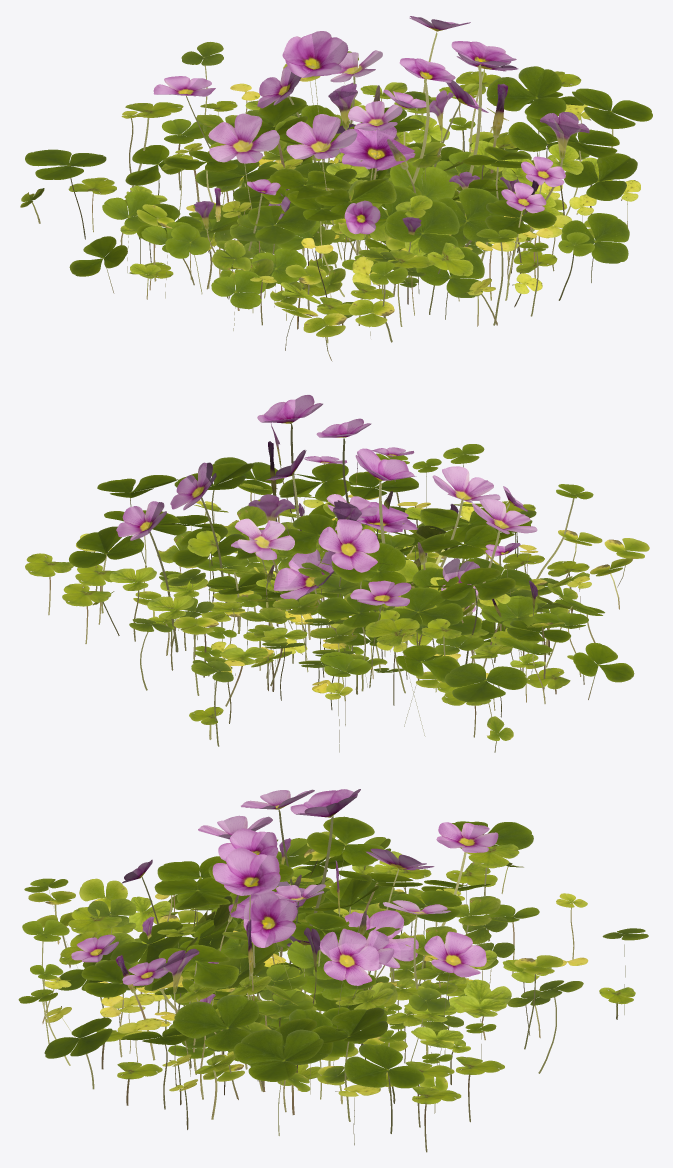
File: uchkajuia_tier_2_nonUE.gltf
The picture shows the model from 3 angles, top to bottom: view 1: azimuth 30°, elevation 25°; view 2: azimuth 150°, elevation 25°; view 3: azimuth 270°, elevation 25°; orthographic projection. The views are drawn at different scales.
Visible parts, largest first — view 1: SM_uchkajuia_VarH, SM_uchkajuia_VarG, SM_uchkajuia_VarD, SM_uchkajuia_VarB, SM_uchkajuia_VarF, SM_uchkajuia_VarE, SM_uchkajuia_VarC, SM_uchkajuia_VarA; view 2: SM_uchkajuia_VarH, SM_uchkajuia_VarD, SM_uchkajuia_VarG, SM_uchkajuia_VarB, SM_uchkajuia_VarF, SM_uchkajuia_VarC, SM_uchkajuia_VarE; view 3: SM_uchkajuia_VarH, SM_uchkajuia_VarG, SM_uchkajuia_VarD, SM_uchkajuia_VarB, SM_uchkajuia_VarE, SM_uchkajuia_VarF, SM_uchkajuia_VarC, SM_uchkajuia_VarA.
Part boxes in pixels (bbox=[...]): SM_uchkajuia_VarH: bbox=[125, 41, 652, 335]; SM_uchkajuia_VarG: bbox=[68, 16, 566, 350]; SM_uchkajuia_VarD: bbox=[20, 91, 637, 342]; SM_uchkajuia_VarB: bbox=[141, 63, 619, 361]; SM_uchkajuia_VarF: bbox=[69, 80, 544, 299]; SM_uchkajuia_VarE: bbox=[230, 105, 527, 297]; SM_uchkajuia_VarC: bbox=[124, 137, 560, 343]; SM_uchkajuia_VarA: bbox=[238, 161, 482, 298]; SM_uchkajuia_VarH: bbox=[25, 395, 602, 726]; SM_uchkajuia_VarD: bbox=[76, 457, 593, 752]; SM_uchkajuia_VarG: bbox=[62, 418, 632, 746]; SM_uchkajuia_VarB: bbox=[75, 458, 649, 723]; SM_uchkajuia_VarF: bbox=[159, 450, 634, 702]; SM_uchkajuia_VarC: bbox=[172, 515, 604, 710]; SM_uchkajuia_VarE: bbox=[208, 502, 536, 660]; SM_uchkajuia_VarH: bbox=[18, 815, 583, 1152]; SM_uchkajuia_VarG: bbox=[22, 789, 648, 1122]; SM_uchkajuia_VarD: bbox=[24, 816, 635, 1145]; SM_uchkajuia_VarB: bbox=[28, 838, 588, 1127]; SM_uchkajuia_VarE: bbox=[136, 875, 418, 1085]; SM_uchkajuia_VarF: bbox=[168, 838, 400, 1104]; SM_uchkajuia_VarC: bbox=[58, 889, 490, 1099]; SM_uchkajuia_VarA: bbox=[155, 928, 372, 1011].
Size of what is drawn, in the model's own units: 0.5563 by 0.1995 by 0.5159.
1 material, 1 textured.
